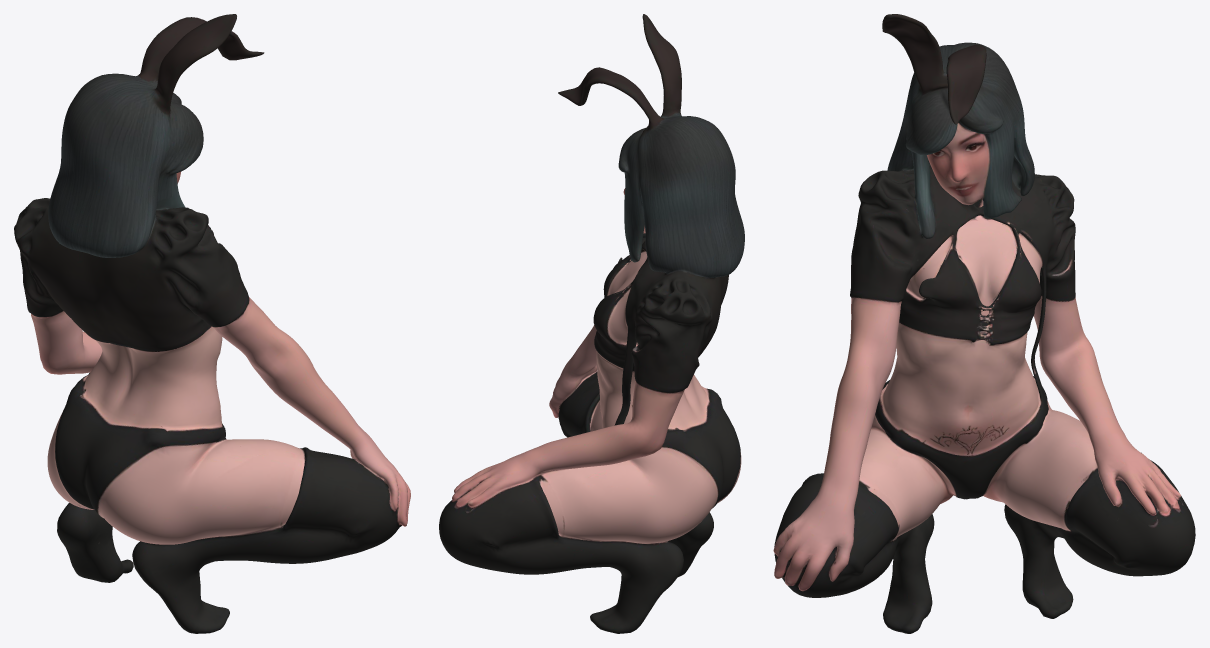
The picture shows the model from 3 angles, left to right: view 1: azimuth 30°, elevation 25°; view 2: azimuth 150°, elevation 25°; view 3: azimuth 270°, elevation 25°; orthographic projection. The views are drawn at different scales.
Visible parts, largest first — view 1: tripo_node_655b2428-a100-4145-8bc4-7b64f1e6b58a; view 2: tripo_node_655b2428-a100-4145-8bc4-7b64f1e6b58a; view 3: tripo_node_655b2428-a100-4145-8bc4-7b64f1e6b58a.
Part boxes in pixels (x1,y1,x2,y2): tripo_node_655b2428-a100-4145-8bc4-7b64f1e6b58a: [14, 14, 410, 633]; tripo_node_655b2428-a100-4145-8bc4-7b64f1e6b58a: [439, 14, 744, 633]; tripo_node_655b2428-a100-4145-8bc4-7b64f1e6b58a: [773, 14, 1195, 633].
Bounding box in the file's own units: 0.8177 × 1.7 × 1.05.
1 material, 1 textured.
